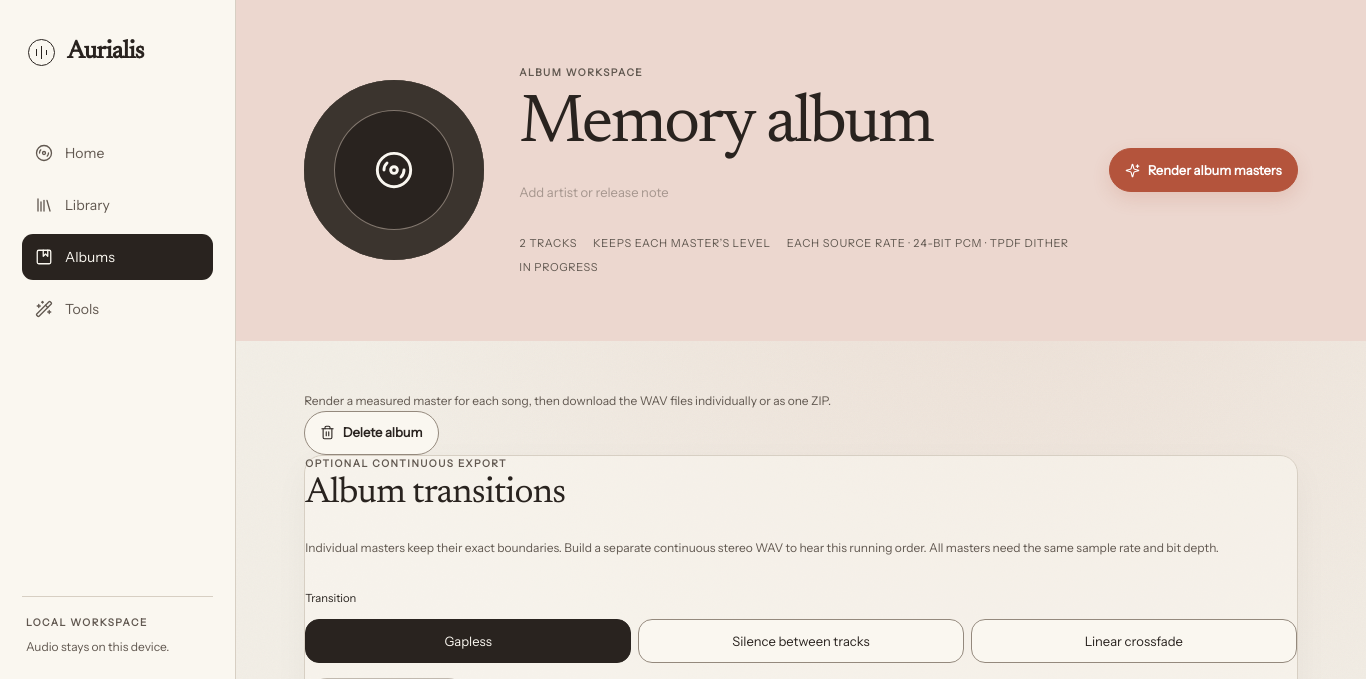
Scenario: saves masters to browser storage as they render, holding only the current track in memory
Click the button "Render album masters": (1203, 170) [1109,148,1298,192]
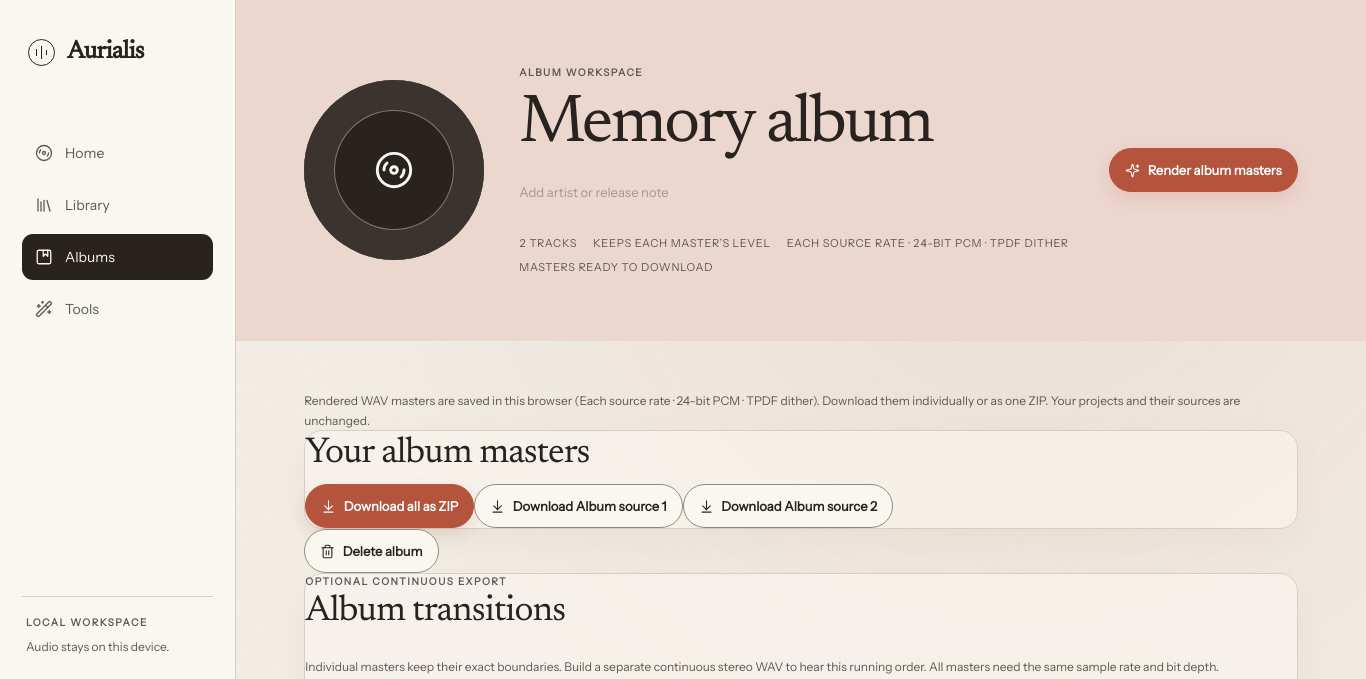
Result: the button "Download all as ZIP" is shown at [305,484,474,528]
